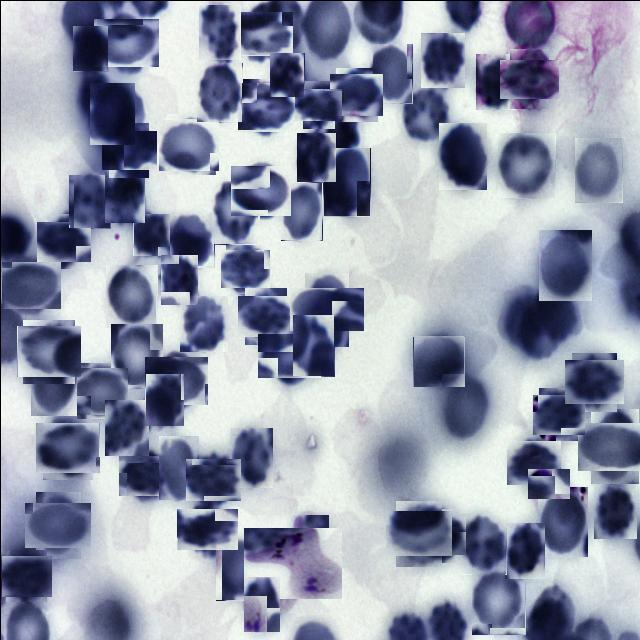red blood cell: (497, 132, 555, 198), (538, 229, 591, 300), (471, 568, 525, 634), (537, 486, 587, 556), (110, 323, 163, 389), (296, 280, 356, 338), (584, 415, 640, 477), (38, 418, 96, 475), (19, 322, 77, 379), (160, 115, 217, 172), (323, 147, 370, 216), (438, 122, 486, 189), (105, 264, 156, 327), (441, 373, 490, 438), (232, 162, 288, 218), (0, 257, 56, 313), (98, 14, 154, 70), (148, 352, 204, 408), (390, 505, 446, 561), (574, 137, 622, 202), (30, 497, 86, 552), (215, 536, 263, 600), (210, 180, 258, 243), (30, 351, 76, 415), (262, 328, 316, 382), (238, 80, 292, 133), (460, 512, 506, 574), (400, 87, 450, 143), (89, 82, 134, 144), (196, 62, 242, 122), (235, 7, 288, 59), (568, 356, 620, 408), (179, 295, 227, 351), (74, 364, 125, 416), (180, 503, 232, 554), (292, 314, 334, 376), (229, 427, 272, 487), (168, 210, 214, 266), (158, 435, 198, 499), (412, 336, 463, 386), (504, 53, 554, 103), (508, 436, 558, 486), (104, 399, 148, 455), (240, 291, 290, 340), (280, 182, 322, 240), (420, 32, 464, 87), (188, 454, 237, 503), (372, 43, 412, 103), (121, 451, 170, 499), (198, 2, 240, 58), (593, 484, 636, 538), (332, 70, 380, 118), (68, 174, 110, 228), (40, 217, 88, 264), (104, 126, 152, 173), (504, 522, 544, 578), (475, 53, 515, 109), (414, 512, 461, 558), (2, 552, 49, 598), (104, 168, 144, 222), (243, 576, 280, 632), (535, 391, 581, 436), (145, 373, 184, 426), (296, 132, 336, 182), (160, 254, 198, 305), (222, 247, 266, 290), (76, 71, 110, 120), (72, 25, 108, 71), (132, 213, 170, 256), (298, 84, 338, 124), (269, 52, 304, 97)
trophozoite: (250, 520, 334, 605), (530, 464, 566, 502)
